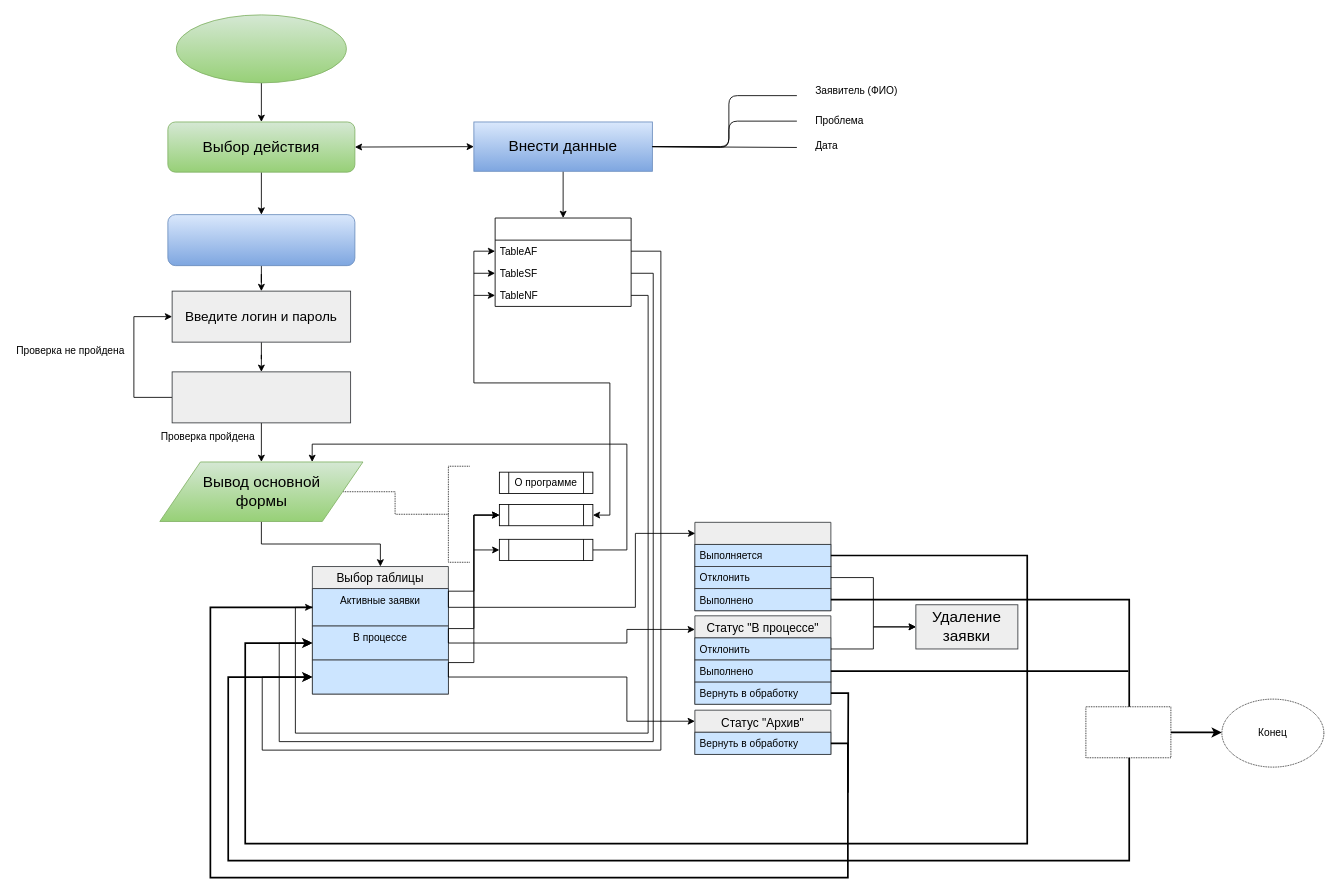
This 1339x894 diagram has some shape labels left out. The shapes that lost their labels are listed below. From the top down, each one's box as (x1, y1, x2, y2) in pixels, then its label:
(176, 14, 346, 83): Начало
(167, 214, 355, 266): Авторизация
(494, 217, 631, 306): База данных
(171, 371, 351, 423): Проверка логина и пароля
(499, 504, 593, 526): Сохранить
(499, 538, 593, 561): Обновить
(694, 521, 831, 611): Статус "Активно"
(312, 659, 448, 694): Архив
(1085, 706, 1171, 758): Вывод отчета в Word
